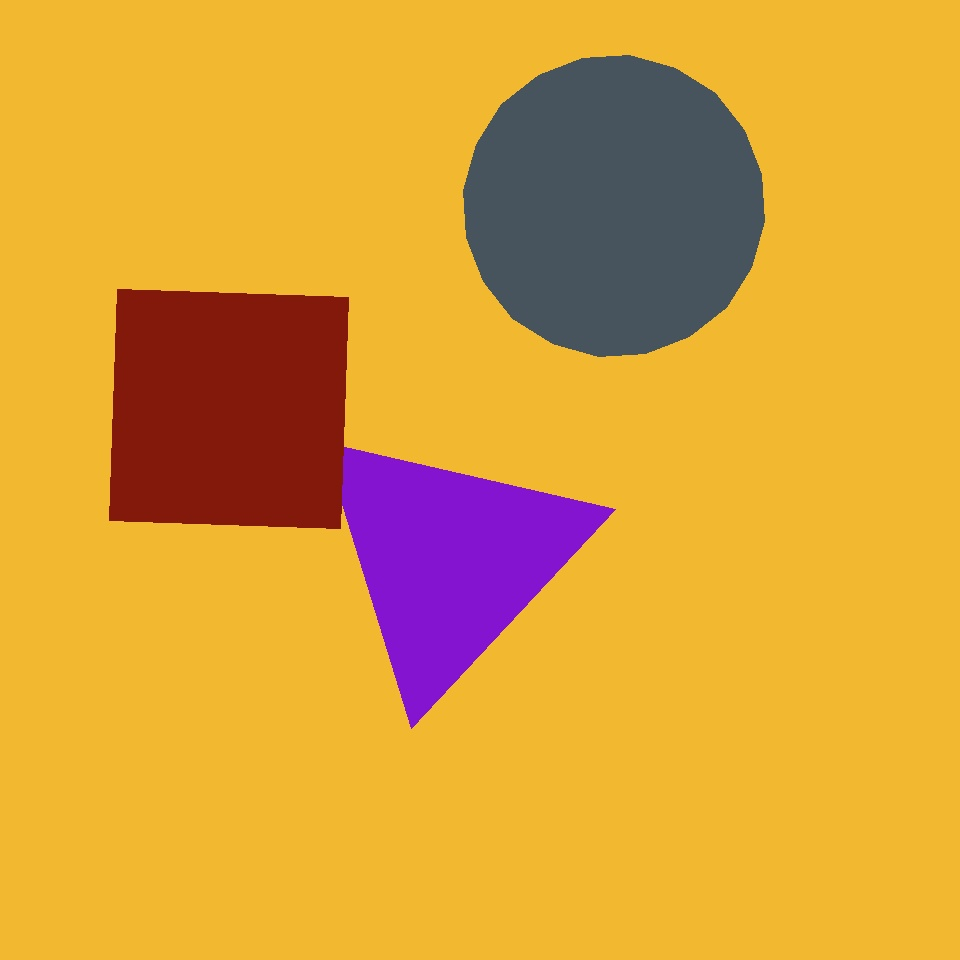circle: (304, 417, 596, 703)
square: (87, 258, 377, 548), (110, 289, 348, 528), (312, 377, 498, 564)
triangle: (464, 55, 764, 356), (583, 412, 838, 667), (612, 84, 832, 304)
